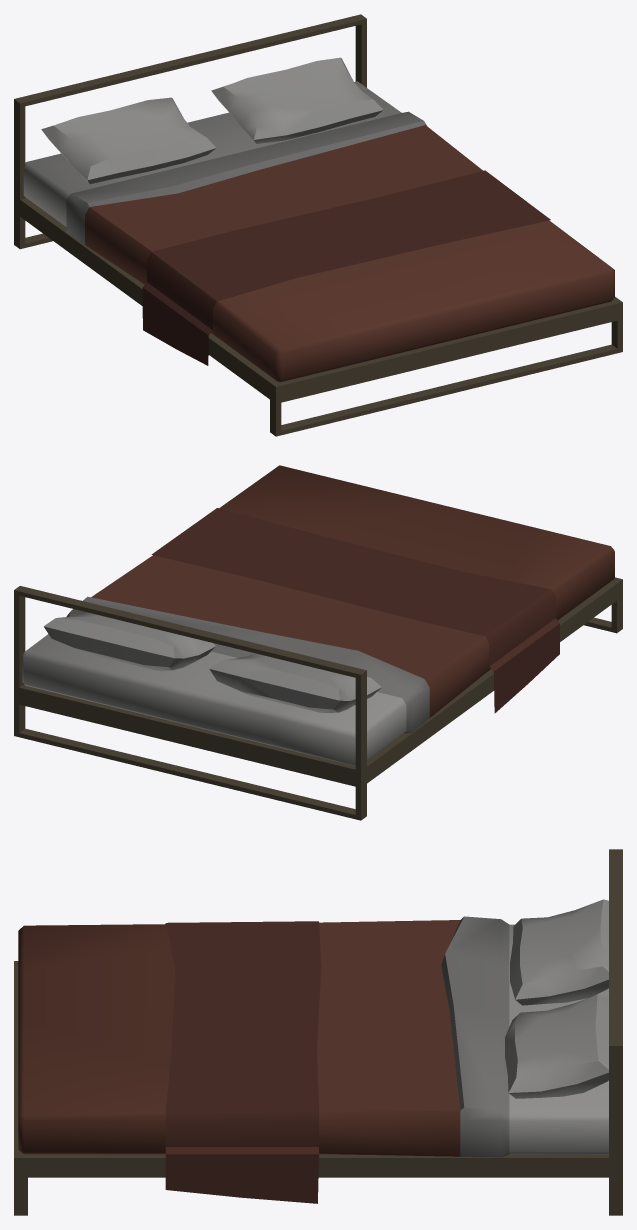
Rendered from bed_double.glb.
3 renders of one model, top to bottom at view 1: azimuth 30°, elevation 25°; view 2: azimuth 150°, elevation 25°; view 3: azimuth 270°, elevation 25°, orthographic. The views are drawn at different scales.
Visible parts, largest first — view 1: bed_double; view 2: bed_double; view 3: bed_double.
Boxes of the visible parts, <box> form: bed_double: <box>14,14,622,436</box>; bed_double: <box>14,465,622,820</box>; bed_double: <box>14,849,622,1215</box>.
Bounding box in the file's own units: 1.63 × 0.6453 × 2.1.
